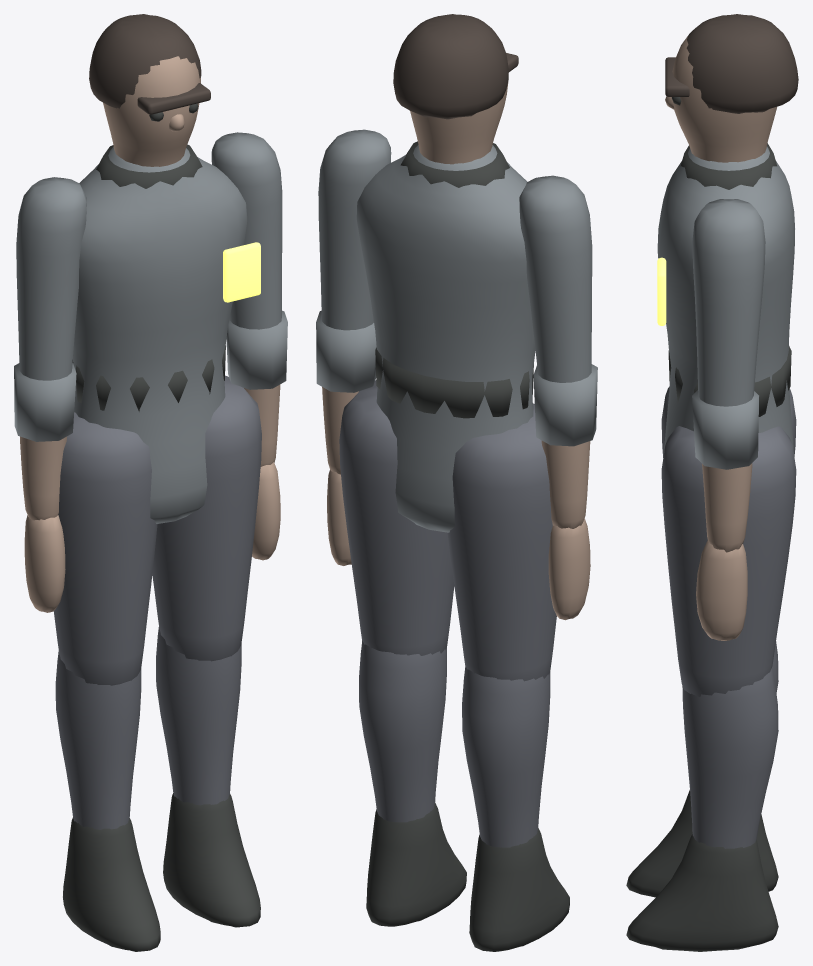
Rendered from resident_still_a_v5.glb.
3 renders of one model, left to right at view 1: azimuth 30°, elevation 25°; view 2: azimuth 150°, elevation 25°; view 3: azimuth 270°, elevation 25°, orthographic. The views are drawn at different scales.
Parts seen in each view (by area): view 1: HabResidentStill; view 2: HabResidentStill; view 3: HabResidentStill.
Part boxes in pixels (x1,y1,x2,y2): HabResidentStill: (14,14,287,951); HabResidentStill: (316,14,597,951); HabResidentStill: (626,14,798,951).
Size of the model in its own units: 0.5588 by 1.77 by 0.3079.
